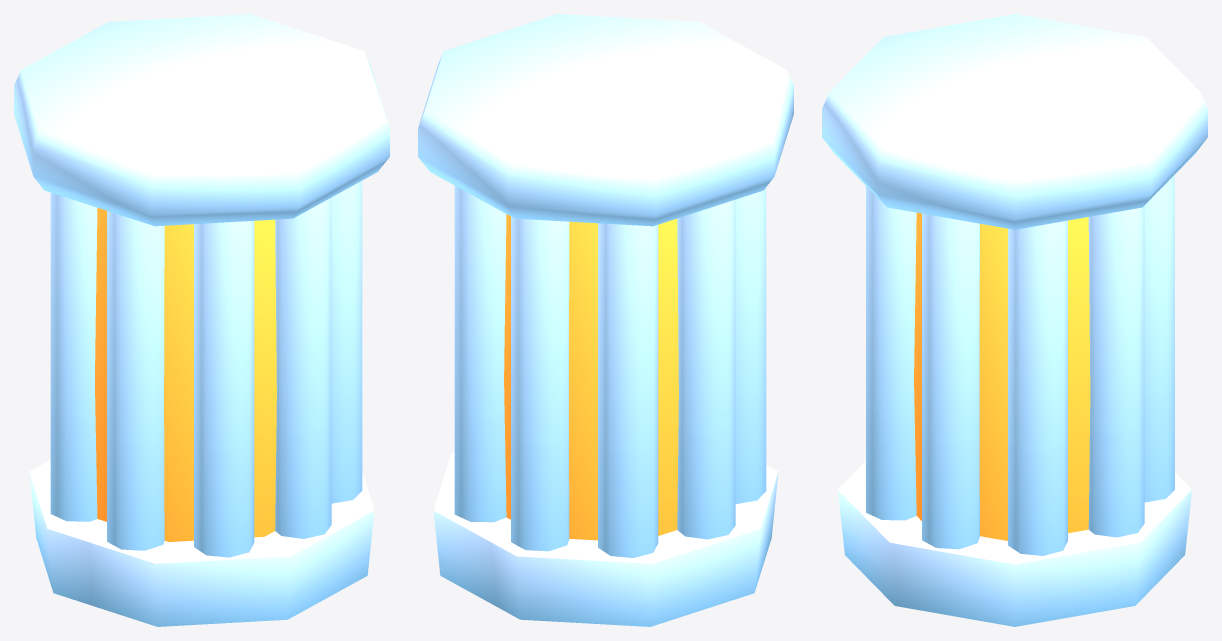
File: gold_and_steel_grip_057.glb
3 renders of one model, left to right at view 1: azimuth 30°, elevation 25°; view 2: azimuth 150°, elevation 25°; view 3: azimuth 270°, elevation 25°, orthographic.
Visible parts, largest first — view 1: gold_and_steel_grip_057; view 2: gold_and_steel_grip_057; view 3: gold_and_steel_grip_057.
Boxes of the visible parts, x1=… form: gold_and_steel_grip_057: x1=14, y1=14, x2=389, y2=626; gold_and_steel_grip_057: x1=418, y1=14, x2=793, y2=626; gold_and_steel_grip_057: x1=822, y1=14, x2=1207, y2=626.
Bounding box in the file's own units: 2.5 × 3.31 × 2.5.
Materials: 1 (1 with a texture image).
